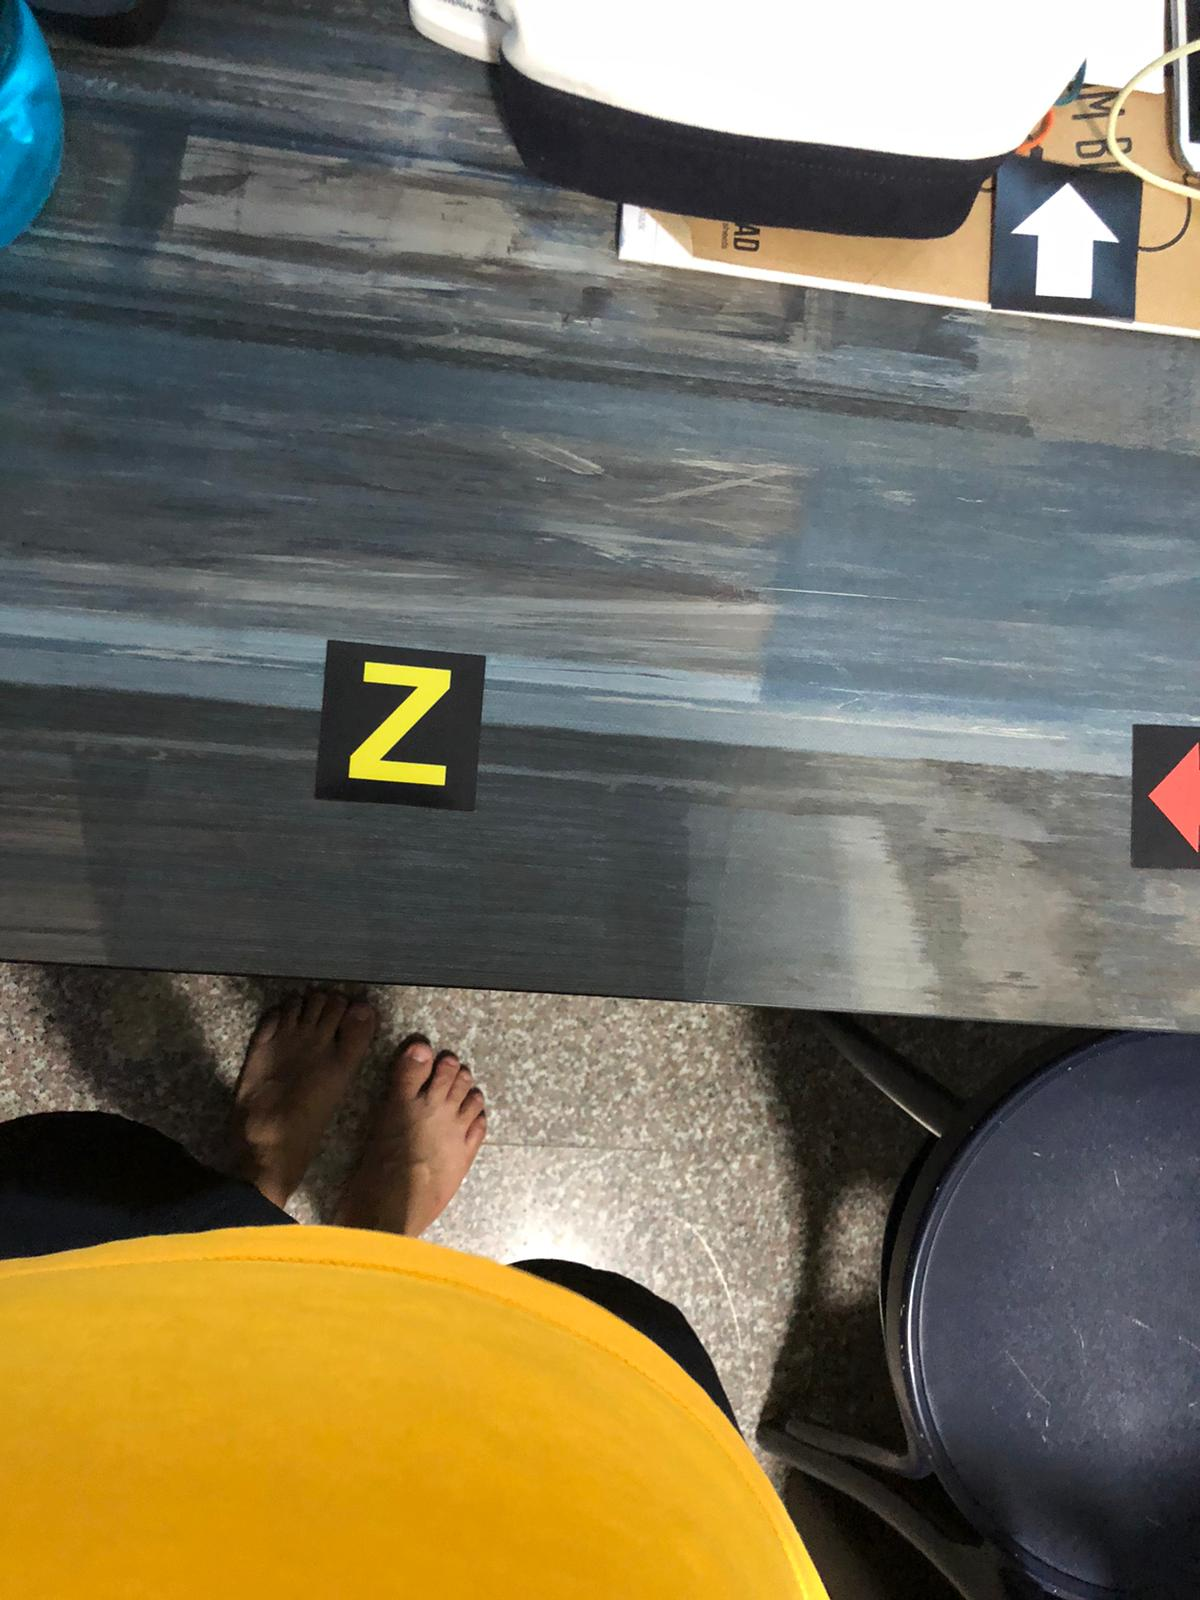Z: (318, 643, 484, 805)
